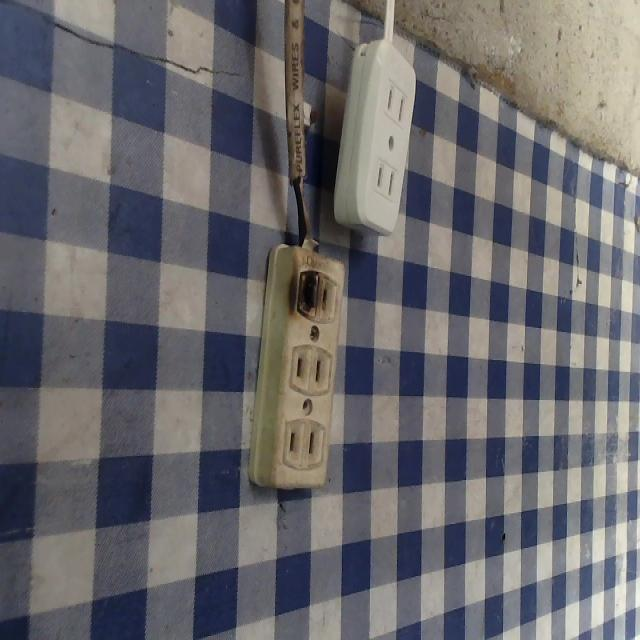-: (290, 261, 323, 324)
